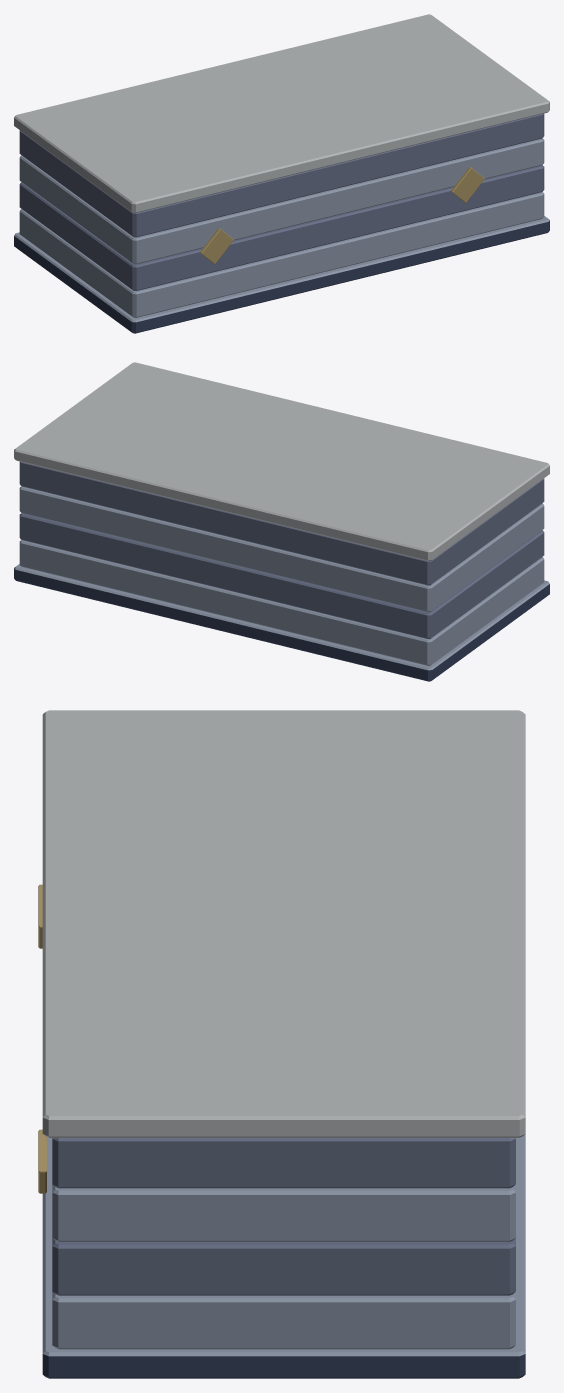
The model's file is platform-wide.glb.
3 renders of one model, top to bottom at view 1: azimuth 30°, elevation 25°; view 2: azimuth 150°, elevation 25°; view 3: azimuth 270°, elevation 25°, orthographic. The views are drawn at different scales.
Parts seen in each view (by area): view 1: platform-wide__body; view 2: platform-wide__body; view 3: platform-wide__body.
Boxes of the visible parts, <box> form: platform-wide__body: <box>14,14,549,333</box>; platform-wide__body: <box>14,362,549,681</box>; platform-wide__body: <box>38,710,525,1378</box>.
Bounding box in the file's own units: 4 × 1.2 × 2.02.
